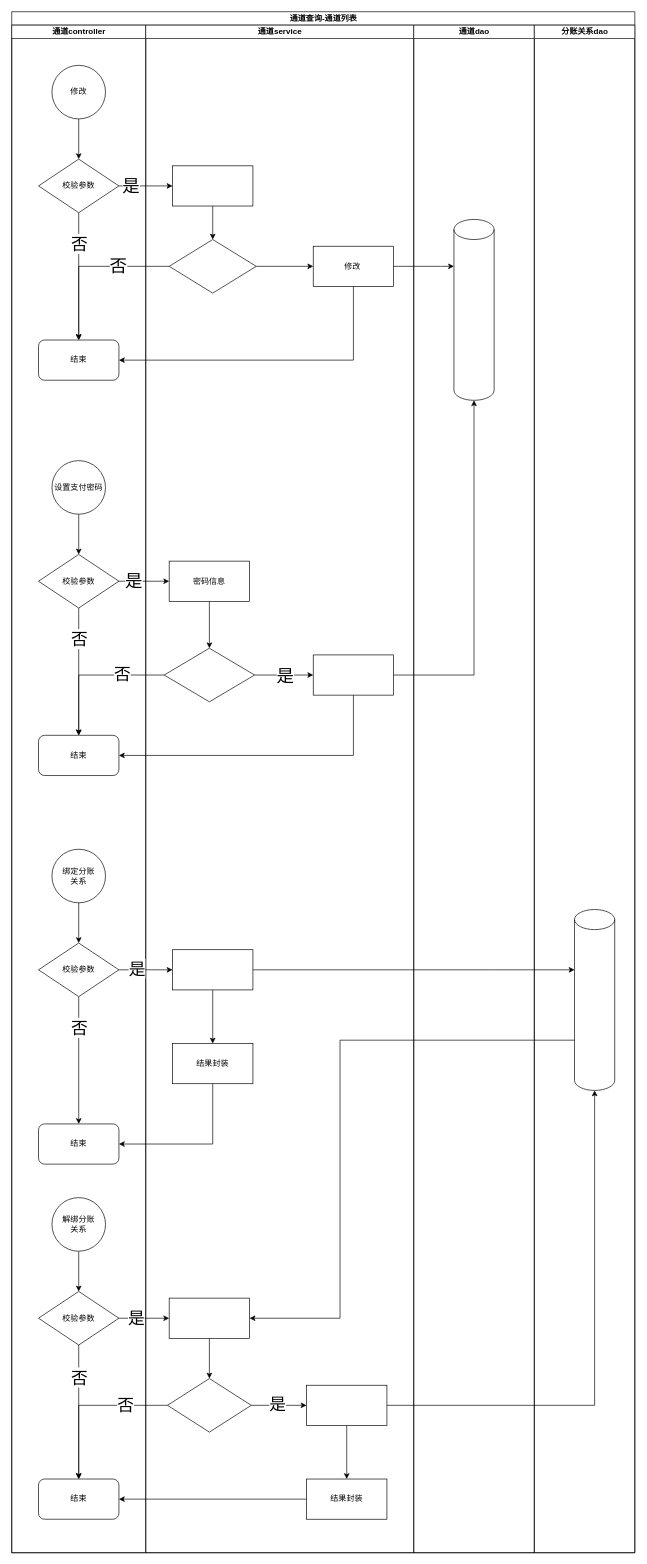
This 647x1564 diagram has some shape labels left out. The centre of each missing label's shape, as x and y in pixels:
"修改通道" goes at (212,185).
"分账关系" goes at (594,999).
"分账关系入库" goes at (212,969).
"分账关系变更" goes at (209,1317).
"存在" goes at (209,1405).
"密码入库" goes at (353,674).
"密码确认" goes at (209,675).
"是否可修改" goes at (212,266).
"解除绑定" goes at (346,1405).
"通道信息" goes at (473,309).
